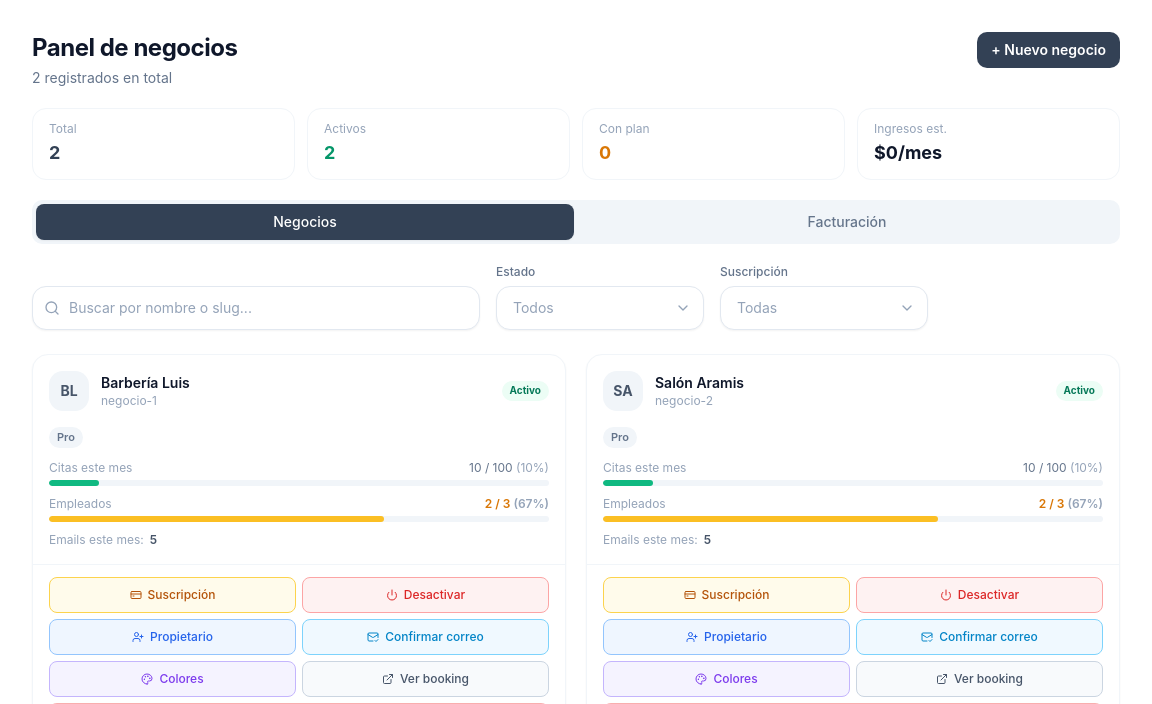
Test: NegociosAdminPage — filtros y paginación › la búsqueda se aplica al confirmar, no al teclear
expect the text "Barbería Luis" is shown: met, box 101,374 -> 190,391
Type "Aramis" into the search field named "Buscar negocio" at (256, 308), box 32,286 -> 480,330
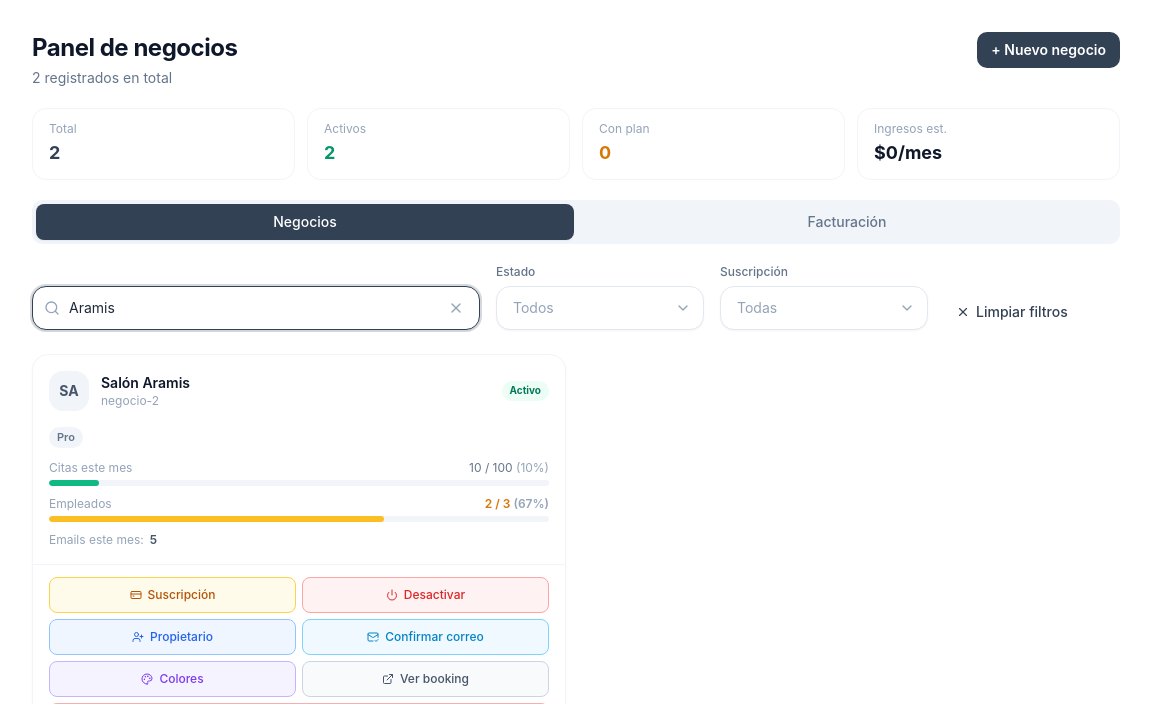
expect the text "Salón Aramis" is shown: met, box 101,374 -> 190,391
expect the text "Barbería Luis" is gone: met
